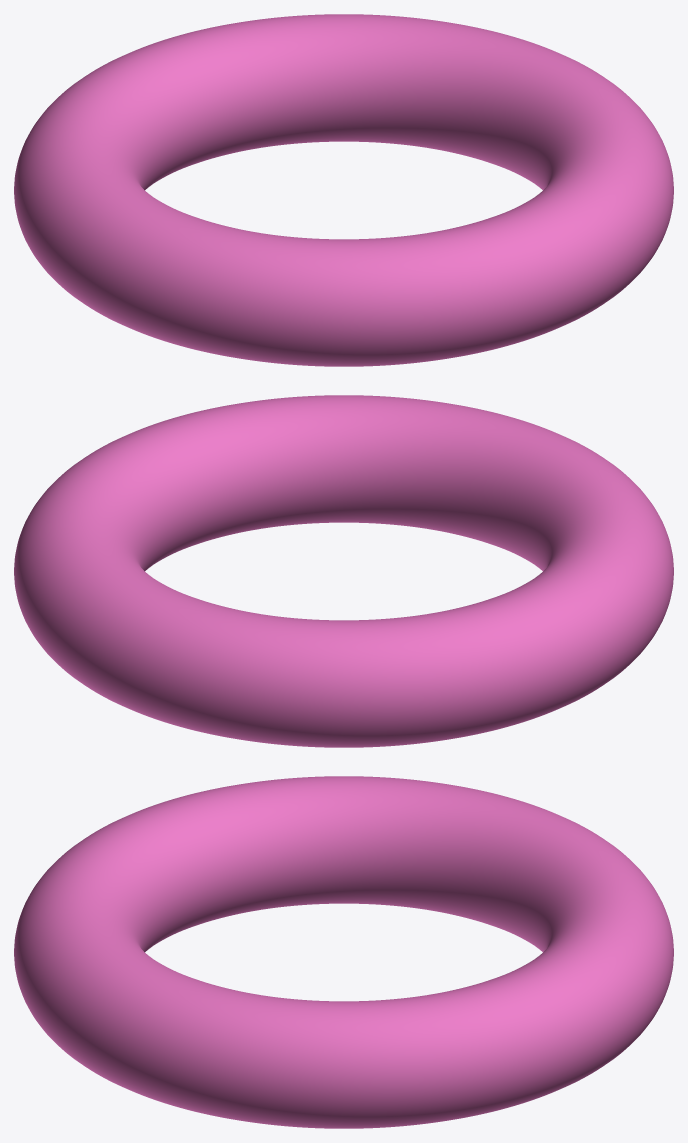
3 views of the same model, one above another, from view 1: azimuth 30°, elevation 25°; view 2: azimuth 150°, elevation 25°; view 3: azimuth 270°, elevation 25° (orthographic).
Parts seen in each view (by area): view 1: Torus; view 2: Torus; view 3: Torus.
Part boxes in pixels (bbox=[...]): Torus: bbox=[14, 14, 673, 366]; Torus: bbox=[14, 395, 673, 747]; Torus: bbox=[14, 776, 673, 1128].
Size of the model in its own units: 9.88 by 1.91 by 9.88.
